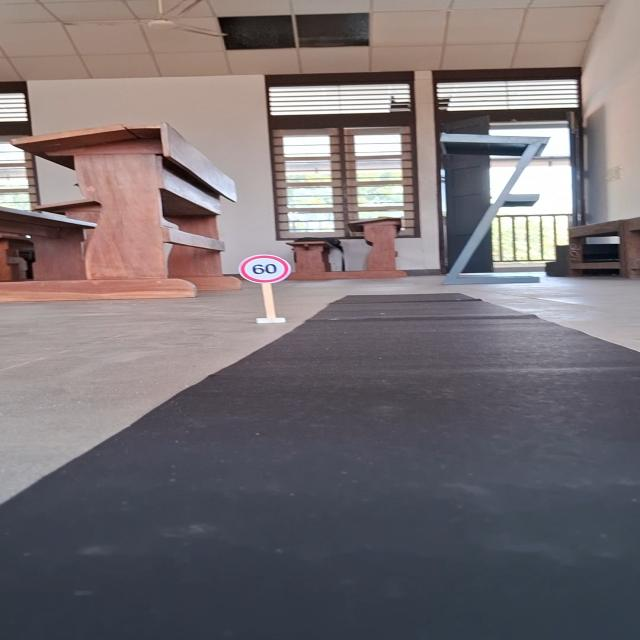Speed60: (236, 253, 292, 284)
